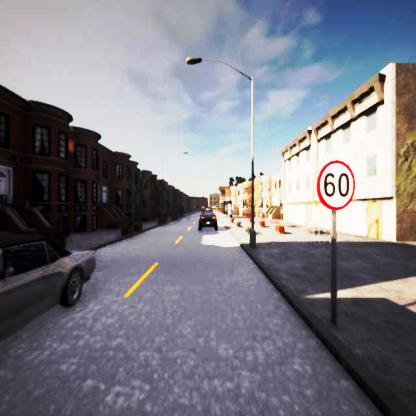vehicle: (1, 226, 96, 310), (198, 209, 217, 230)
